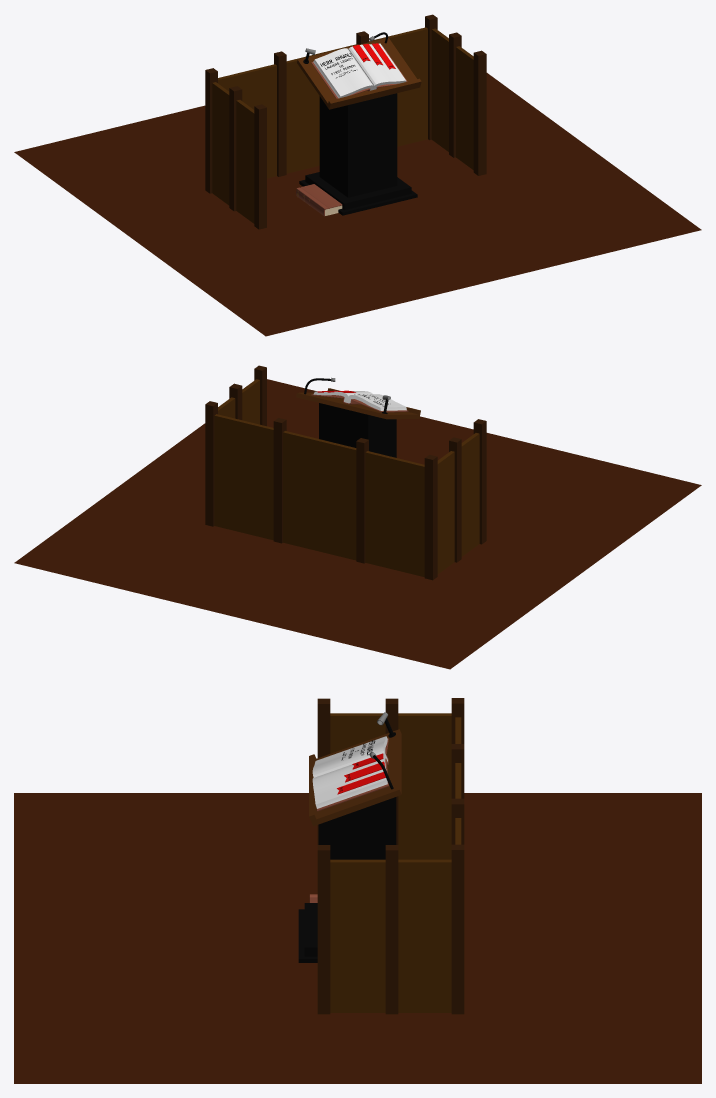
File: Main Menu Book with bult1.fbx
3 renders of one model, top to bottom at view 1: azimuth 30°, elevation 25°; view 2: azimuth 150°, elevation 25°; view 3: azimuth 270°, elevation 25°, orthographic. The views are drawn at different scales.
Parts seen in each view (by area): view 1: Plane, Wand.002, Pult Ständer, Podest, Wand, Wand.001, book content, Pult Oben, Podest.003, Podest.001, Buch, Podest.002 (+1 smaller); view 2: Plane, Wand.002, Wand, Podest, Pult Ständer, Podest.001, Podest.004, Podest.003, Podest.002, Pult Oben, Wand.001, book cover and side; view 3: Plane, Wand.001, Wand, Podest, Pult Ständer, Pult Oben, book content, Podest.002, book cover and side, Wand.002.
Part boxes in pixels (x1=…): Plane: x1=14, y1=73, x2=701, y2=336; Wand.002: x1=218, y1=27, x2=427, y2=178; Pult Ständer: x1=299, y1=93, x2=417, y2=215; Podest: x1=229, y1=32, x2=486, y2=229; Wand: x1=212, y1=82, x2=254, y2=223; Wand.001: x1=431, y1=28, x2=473, y2=169; book content: x1=315, y1=43, x2=405, y2=96; Pult Oben: x1=297, y1=37, x2=421, y2=109; Podest.003: x1=274, y1=51, x2=286, y2=176; Podest.001: x1=205, y1=68, x2=217, y2=193; Buch: x1=296, y1=184, x2=342, y2=216; Podest.002: x1=425, y1=14, x2=437, y2=140; Plane: x1=14, y1=379, x2=701, y2=669; Wand.002: x1=214, y1=414, x2=424, y2=576; Wand: x1=437, y1=433, x2=479, y2=574; Podest: x1=229, y1=365, x2=486, y2=562; Pult Ständer: x1=319, y1=403, x2=396, y2=457; Podest.001: x1=424, y1=454, x2=437, y2=580; Podest.004: x1=273, y1=418, x2=286, y2=543; Podest.003: x1=356, y1=438, x2=368, y2=563; Podest.002: x1=205, y1=401, x2=217, y2=526; Pult Oben: x1=296, y1=388, x2=420, y2=419; Wand.001: x1=218, y1=379, x2=259, y2=424; book cover and side: x1=311, y1=391, x2=408, y2=412; Plane: x1=14, y1=793, x2=701, y2=1083; Wand.001: x1=330, y1=859, x2=451, y2=1012; Wand: x1=330, y1=713, x2=451, y2=859; Podest: x1=317, y1=698, x2=398, y2=1014; Pult Ständer: x1=298, y1=797, x2=396, y2=962; Pult Oben: x1=309, y1=729, x2=401, y2=826; book content: x1=312, y1=736, x2=386, y2=804; Podest.002: x1=451, y1=844, x2=464, y2=1014; book cover and side: x1=316, y1=736, x2=388, y2=811; Wand.002: x1=455, y1=717, x2=461, y2=844.
Bounding box in the file's own units: 770 × 273 × 770.
